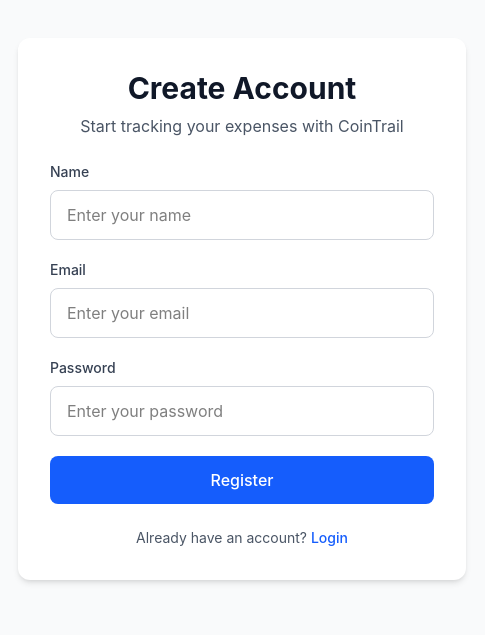
Scenario: RegisterPage › registers user successfully
Type "Deepak Yadav" into the field labelled "Name" at (242, 214), box top-left (50, 190), bottom-right (434, 240)
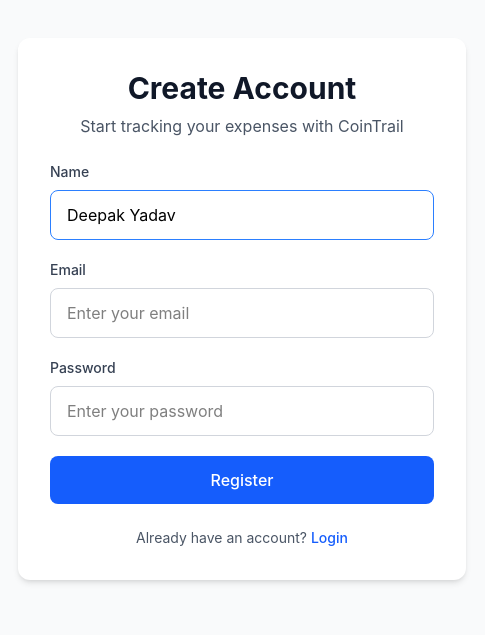
Type "deepak@example.com" into the field labelled "Email" at (242, 312), box top-left (50, 288), bottom-right (434, 338)
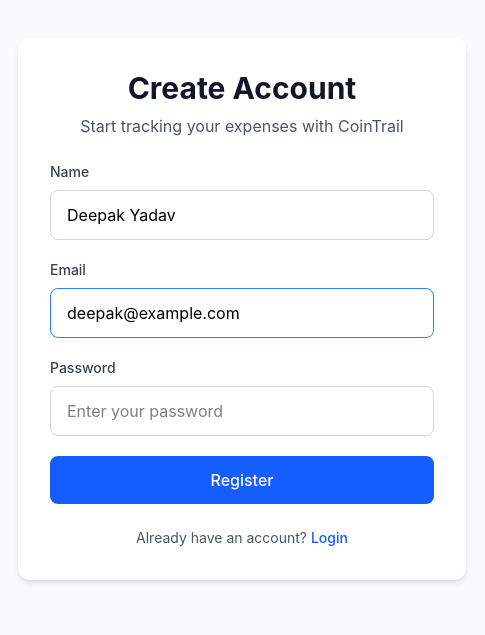
Type "password123" into the password field labelled "Password" at (242, 410), box top-left (50, 386), bottom-right (434, 436)
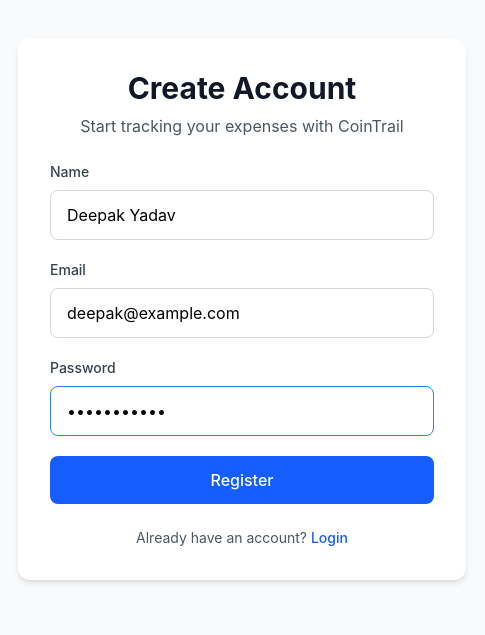
Click the button "Register" at (242, 480), box top-left (50, 456), bottom-right (434, 504)
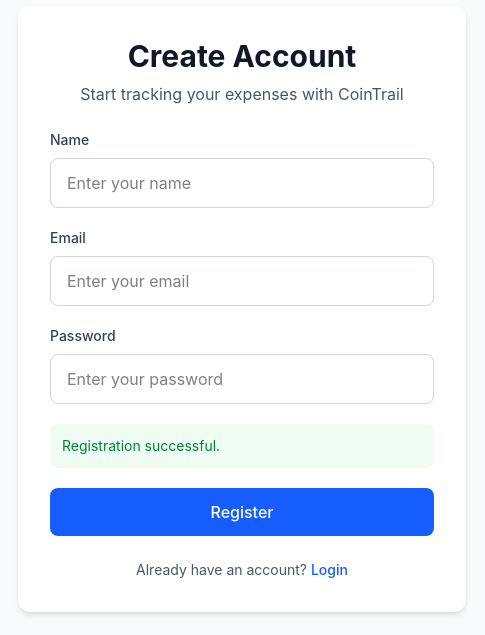
Expected: the text "Registration successful." is shown, top-left (50, 424), bottom-right (434, 468)
